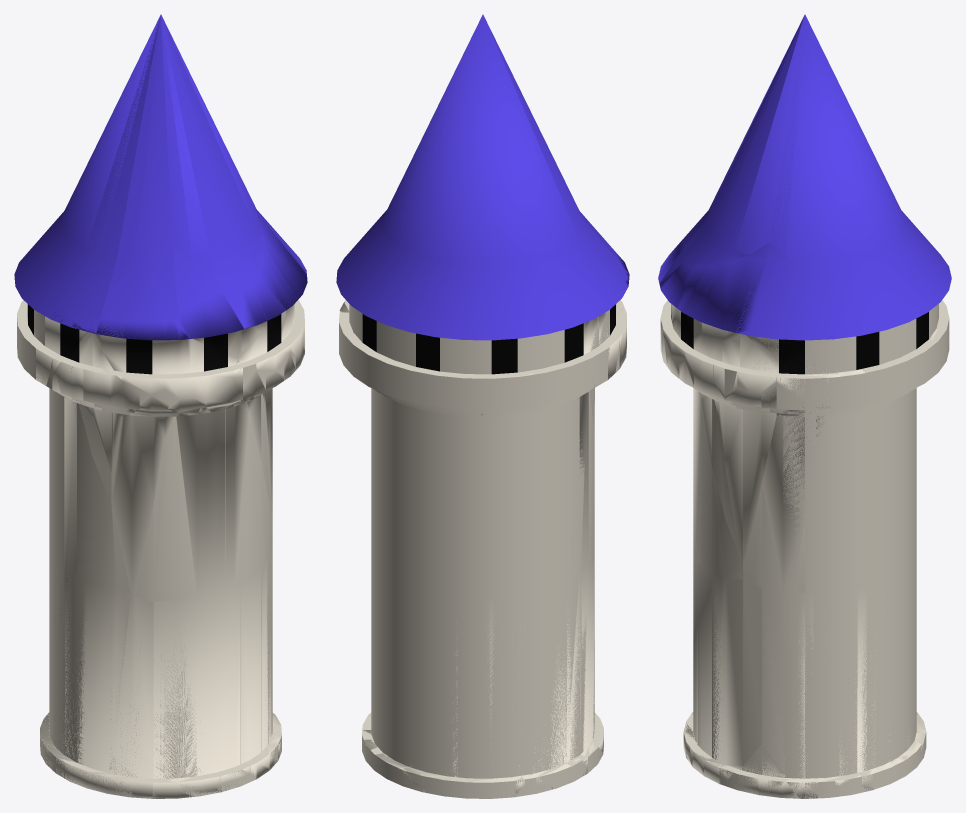
The model's file is Chateau.fbx.
3 renders of one model, left to right at view 1: azimuth 30°, elevation 25°; view 2: azimuth 150°, elevation 25°; view 3: azimuth 270°, elevation 25°, orthographic.
Visible parts, largest first — view 1: Cylinder, Cylinder_cell.092, Cylinder_cell.089, Cylinder_cell.005, Cylinder_cell.029, Cylinder_cell.056, Cylinder_cell.013, Cylinder_cell.086, Cylinder_cell.097, Cylinder_cell.048, Cylinder_cell.047, Cylinder_cell.041 (+22 smaller); view 2: Cylinder, Cylinder_cell.024, Cylinder_cell.097, Cylinder_cell.089, Cylinder_cell.086, Cylinder_cell.079, Cylinder_cell; view 3: Cylinder, Cylinder_cell.099, Cylinder_cell.046, Cylinder_cell.056, Cylinder_cell.002, Cylinder_cell.048, Cylinder_cell.010, Cylinder_cell.043, Cylinder_cell.098, Cylinder_cell.041, Cylinder_cell.008, Cylinder_cell.001 (+11 smaller).
Boxes of the visible parts, bbox=[...] form: Cylinder: bbox=[14, 14, 306, 798]; Cylinder_cell.092: bbox=[153, 581, 249, 790]; Cylinder_cell.089: bbox=[56, 573, 153, 797]; Cylinder_cell.005: bbox=[100, 15, 177, 321]; Cylinder_cell.029: bbox=[136, 407, 210, 601]; Cylinder_cell.056: bbox=[161, 16, 264, 290]; Cylinder_cell.013: bbox=[111, 409, 165, 595]; Cylinder_cell.086: bbox=[64, 397, 116, 588]; Cylinder_cell.097: bbox=[50, 17, 160, 327]; Cylinder_cell.048: bbox=[226, 400, 272, 586]; Cylinder_cell.047: bbox=[161, 18, 220, 313]; Cylinder_cell.041: bbox=[240, 568, 269, 779]; Cylinder: bbox=[336, 14, 628, 798]; Cylinder_cell.024: bbox=[521, 572, 587, 788]; Cylinder_cell.097: bbox=[484, 17, 626, 288]; Cylinder_cell.089: bbox=[580, 543, 603, 768]; Cylinder_cell.086: bbox=[571, 391, 594, 575]; Cylinder_cell.079: bbox=[582, 278, 628, 362]; Cylinder_cell: bbox=[470, 596, 524, 793]; Cylinder: bbox=[660, 14, 951, 798]; Cylinder_cell.099: bbox=[704, 573, 762, 783]; Cylinder_cell.046: bbox=[743, 413, 806, 591]; Cylinder_cell.056: bbox=[683, 15, 804, 267]; Cylinder_cell.002: bbox=[762, 591, 818, 798]; Cylinder_cell.048: bbox=[694, 389, 743, 579]; Cylinder_cell.010: bbox=[725, 389, 776, 568]; Cylinder_cell.043: bbox=[692, 253, 758, 342]; Cylinder_cell.098: bbox=[736, 242, 804, 361]; Cylinder_cell.041: bbox=[690, 561, 711, 775]; Cylinder_cell.008: bbox=[694, 374, 742, 565]; Cylinder_cell.001: bbox=[857, 587, 880, 791].
Bounding box in the file's own units: 402 × 1108 × 402.
